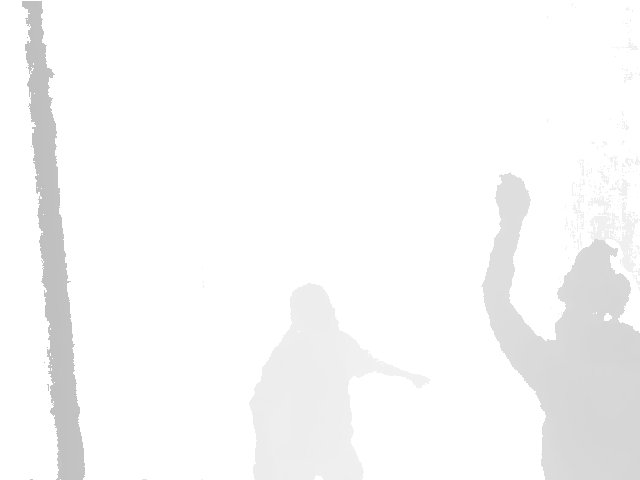hand: (495, 173, 531, 222)
head: (556, 240, 640, 330), (290, 284, 337, 330)
person: (482, 173, 640, 480), (248, 284, 430, 480)
